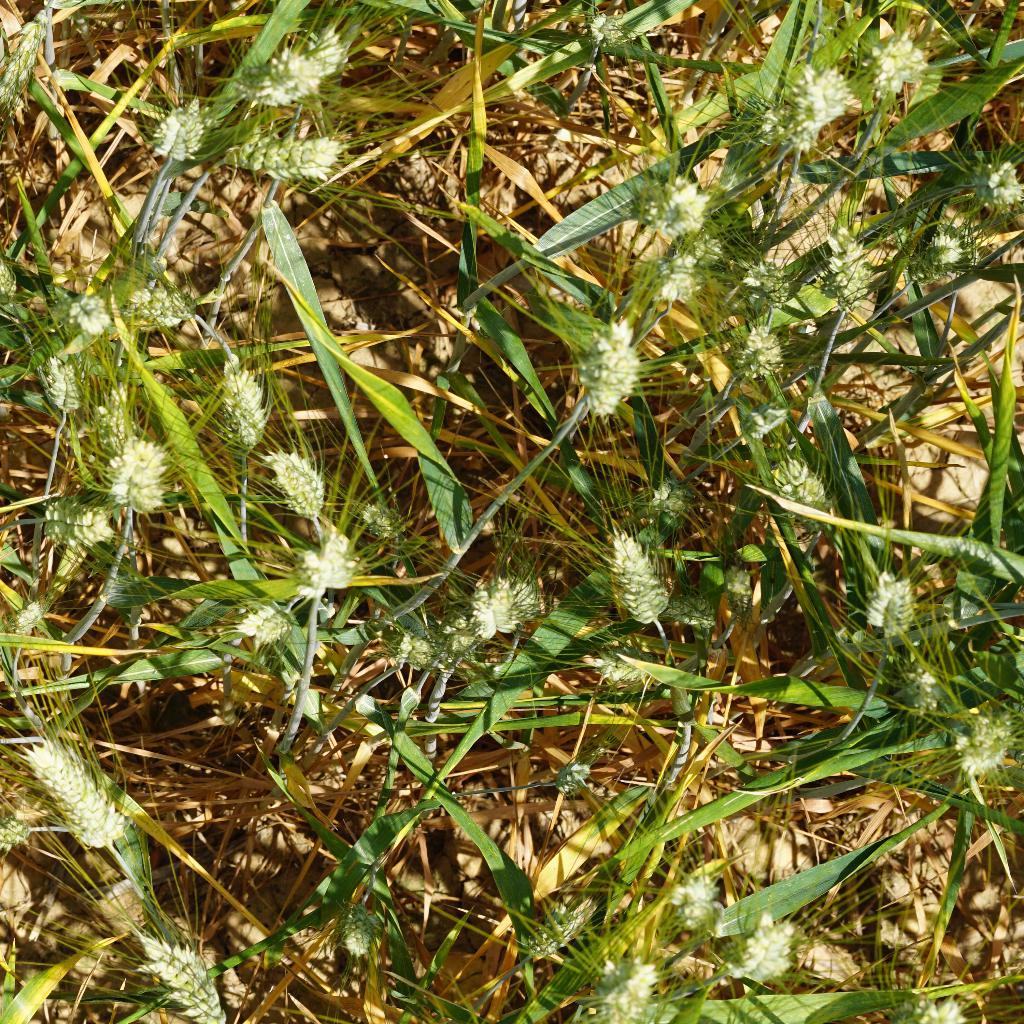0-0: (17, 736, 135, 868), (227, 23, 357, 110), (131, 927, 232, 1024), (750, 66, 862, 148), (602, 520, 678, 640), (710, 905, 804, 1000), (565, 314, 648, 419), (215, 130, 356, 189), (0, 0, 63, 126), (627, 168, 717, 248), (570, 949, 666, 1024), (811, 219, 874, 320), (216, 350, 268, 470), (943, 700, 1018, 782), (771, 449, 830, 549), (258, 442, 329, 524), (145, 92, 218, 171), (102, 434, 171, 516), (290, 524, 364, 600), (776, 61, 832, 161), (115, 271, 213, 328), (859, 29, 937, 100), (513, 897, 593, 965), (898, 221, 976, 290), (857, 560, 918, 641), (876, 977, 981, 1024), (657, 870, 728, 937), (38, 494, 120, 551), (93, 372, 137, 478), (485, 563, 545, 638), (885, 652, 949, 720), (960, 151, 1024, 218), (580, 642, 667, 687), (424, 600, 487, 662), (722, 325, 788, 382), (378, 623, 445, 678), (646, 243, 700, 311), (45, 348, 92, 422), (233, 596, 294, 652), (54, 288, 115, 342), (717, 560, 760, 636), (4, 590, 55, 654), (0, 804, 57, 860), (578, 0, 644, 48), (336, 893, 381, 963), (477, 569, 517, 644), (664, 588, 724, 636), (732, 397, 795, 442), (350, 498, 408, 543), (747, 258, 794, 311), (645, 475, 699, 519), (551, 752, 599, 798), (685, 232, 730, 269)
